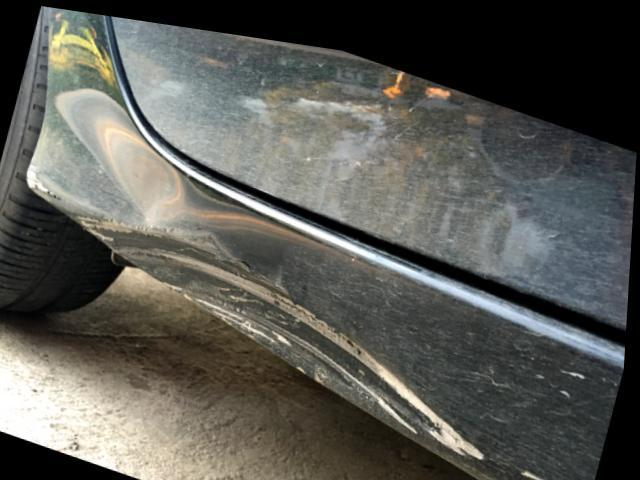dent: (93, 100, 270, 213)
scratch: (79, 213, 494, 469)
